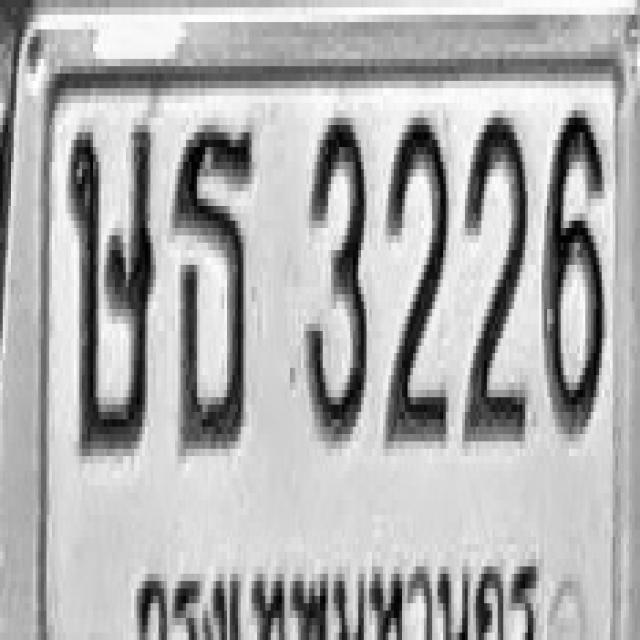2: (462, 110, 528, 442), (383, 110, 448, 442)
3: (304, 110, 366, 442)
33ThorThong: (172, 121, 255, 452)
48SorRueSi: (67, 118, 155, 456)
6: (543, 103, 603, 434)
